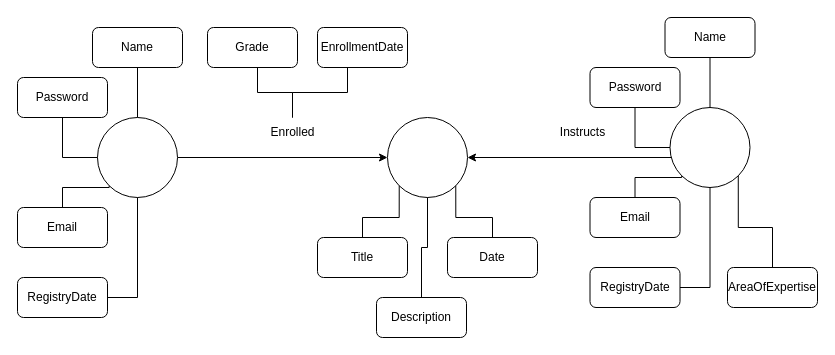
This 835x355 diagram has some shape labels left out. The box of each missing label's shape, as (x1, y1, x2, y2) in pixels:
Courses: (386, 116, 468, 198)
Instructors: (669, 106, 750, 188)
Students: (96, 116, 178, 198)
